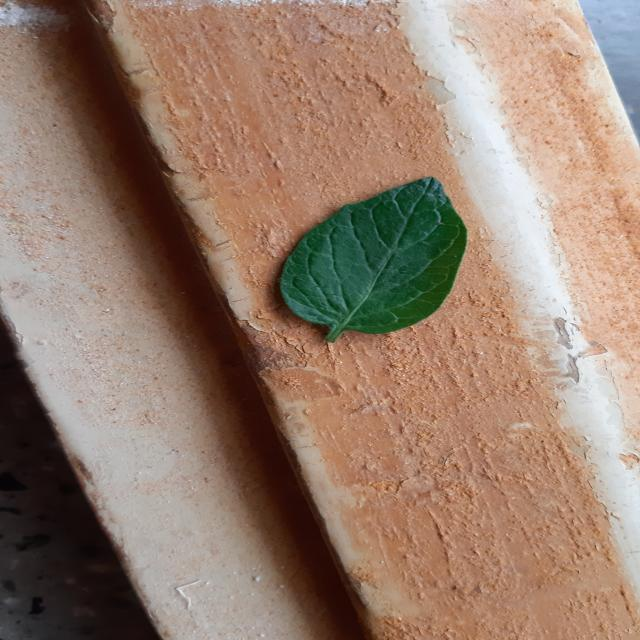tomato: (280, 178, 467, 342)
